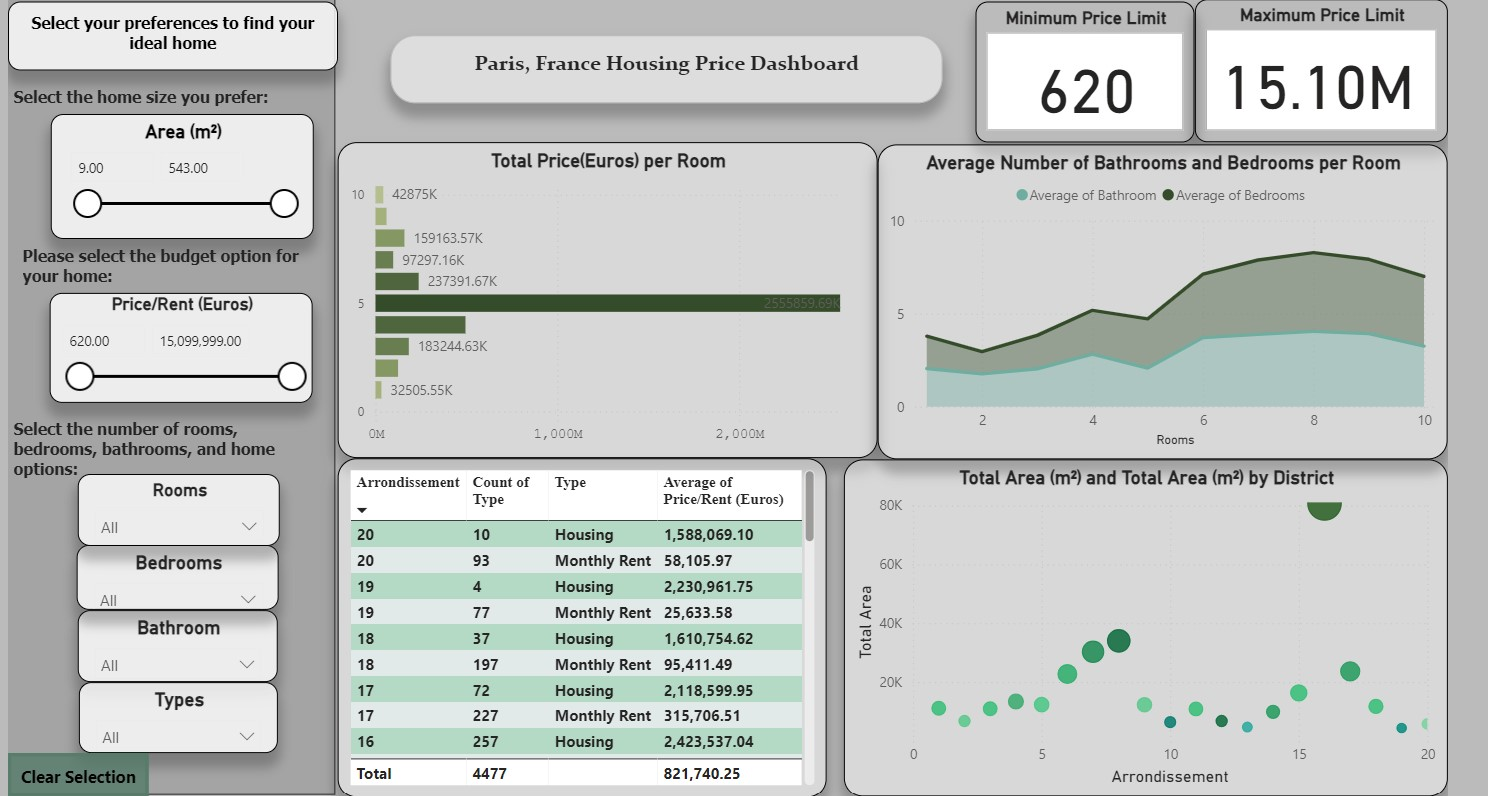

What the dashboard file says about the page in this screenshot:
{"tool":"powerbi","page":{"name":"Page 1","canvas":[1280,720],"ordinal":0},"visuals":[{"type":"shape","box":[-2.2,0,293.3,718.3],"z":0,"group":"g1"},{"type":"clusteredBarChart","title":"Total Price(Euros) per Room","fields":{"Y":["Sum(Updated.Price/Rent (Euros))"],"Category":["Updated.Rooms"]},"box":[293.3,136.7,480,281.7],"z":0},{"type":"tableEx","fields":{"Values":["Updated.Arrondissement","Updated.Type","Updated.Type1","Avg(Updated.Price/Rent (Euros))"]},"box":[293.3,418.3,435,301.7],"z":1000},{"type":"slicer","title":"Bathroom","fields":{"Values":["Updated.Bathroom"]},"box":[61.5,553.3,178.3,63.3],"z":1000,"group":"g1"},{"type":"scatterChart","title":"Total Area (m²) and Total Area (m²) by District","fields":{"X":["Updated.Arrondissement"],"Y":["Sum(Updated.Area (m²))"],"Size":["Sum(Updated.Area (m²))"]},"box":[742.6,418.8,537.4,300.1],"z":2000},{"type":"slicer","title":"Bedrooms","fields":{"Values":["Updated.Bedrooms"]},"box":[61.1,495,180,58.3],"z":2000,"group":"g1"},{"type":"cardVisual","title":"Minimum Price Limit","fields":{"Data":["Min(Updated.Price/Rent (Euros))"]},"box":[860.1,11.9,194.7,125.3],"z":3000},{"type":"slicer","title":"Rooms","fields":{"Values":["Updated.Rooms"]},"box":[61.7,432.2,180,63.3],"z":3000,"group":"g1"},{"type":"cardVisual","title":"Maximum Price Limit","fields":{"Data":["Max(Updated.Price/Rent (Euros))"]},"box":[1054.8,10.2,225.2,127],"z":4000},{"type":"slicer","title":"Types","fields":{"Values":["Updated.Type"]},"box":[63.2,616.7,176.7,63.3],"z":4000,"group":"g1"},{"type":"stackedAreaChart","title":"Average Number of Bathrooms and Bedrooms per Room","fields":{"Y":["Avg(Updated.Bathroom)","Avg(Updated.Bedrooms)"],"Category":["Updated.Rooms"]},"box":[773.1,139,506.9,279.7],"z":5000},{"type":"slicer","title":"Price/Rent (Euros)","fields":{"Values":["Updated.Price/Rent (Euros)"]},"box":[36.7,271.3,233.7,98.2],"z":5000,"group":"g1"},{"type":"group","id":"g1","title":"Groupe 1","box":[-2.2,0,295.7,718.3],"z":6000},{"type":"slicer","title":"Area (m²)","fields":{"Values":["Updated.Area (m²)"]},"box":[38.2,111.7,233.3,111.7],"z":6000,"group":"g1"},{"type":"textbox","box":[0,11.9,292.9,61],"z":7000},{"type":"textbox","box":[7.4,223.8,286.1,55.9],"z":7000,"group":"g1"},{"type":"textbox","box":[0,83,248.9,35.6],"z":8000},{"type":"textbox","box":[0,377.6,286.1,69.4],"z":9000},{"type":"textbox","box":[340.3,42.3,491,59.3],"z":10000},{"type":"actionButton","box":[0,680,125,40],"z":10001}]}

Visuals, with their boxes in screenshot pixels (x1, y1, x2, y2):
shape: 1, 0, 332, 791
"Total Price(Euros) per Room" clusteredBarChart: 335, 135, 876, 453
tableEx - Updated.Arrondissement x Updated.Type: 335, 453, 826, 793
"Bathroom" slicer: 73, 605, 274, 676
"Total Area (m²) and Total Area (m²) by District" scatterChart: 842, 453, 1448, 792
"Bedrooms" slicer: 73, 539, 276, 605
"Minimum Price Limit" cardVisual: 974, 0, 1194, 135
"Rooms" slicer: 74, 468, 277, 540
"Maximum Price Limit" cardVisual: 1194, 0, 1448, 135
"Types" slicer: 75, 676, 275, 748
"Average Number of Bathrooms and Bedrooms per Room" stackedAreaChart: 876, 137, 1448, 453
"Price/Rent (Euros)" slicer: 45, 287, 309, 397
"Groupe 1" group: 1, 0, 335, 791
"Area (m²)" slicer: 47, 106, 310, 233
textbox: 4, 0, 334, 63
textbox: 12, 233, 335, 296
textbox: 4, 74, 285, 114
textbox: 4, 407, 327, 485
textbox: 388, 28, 942, 95
actionButton: 4, 748, 145, 793
